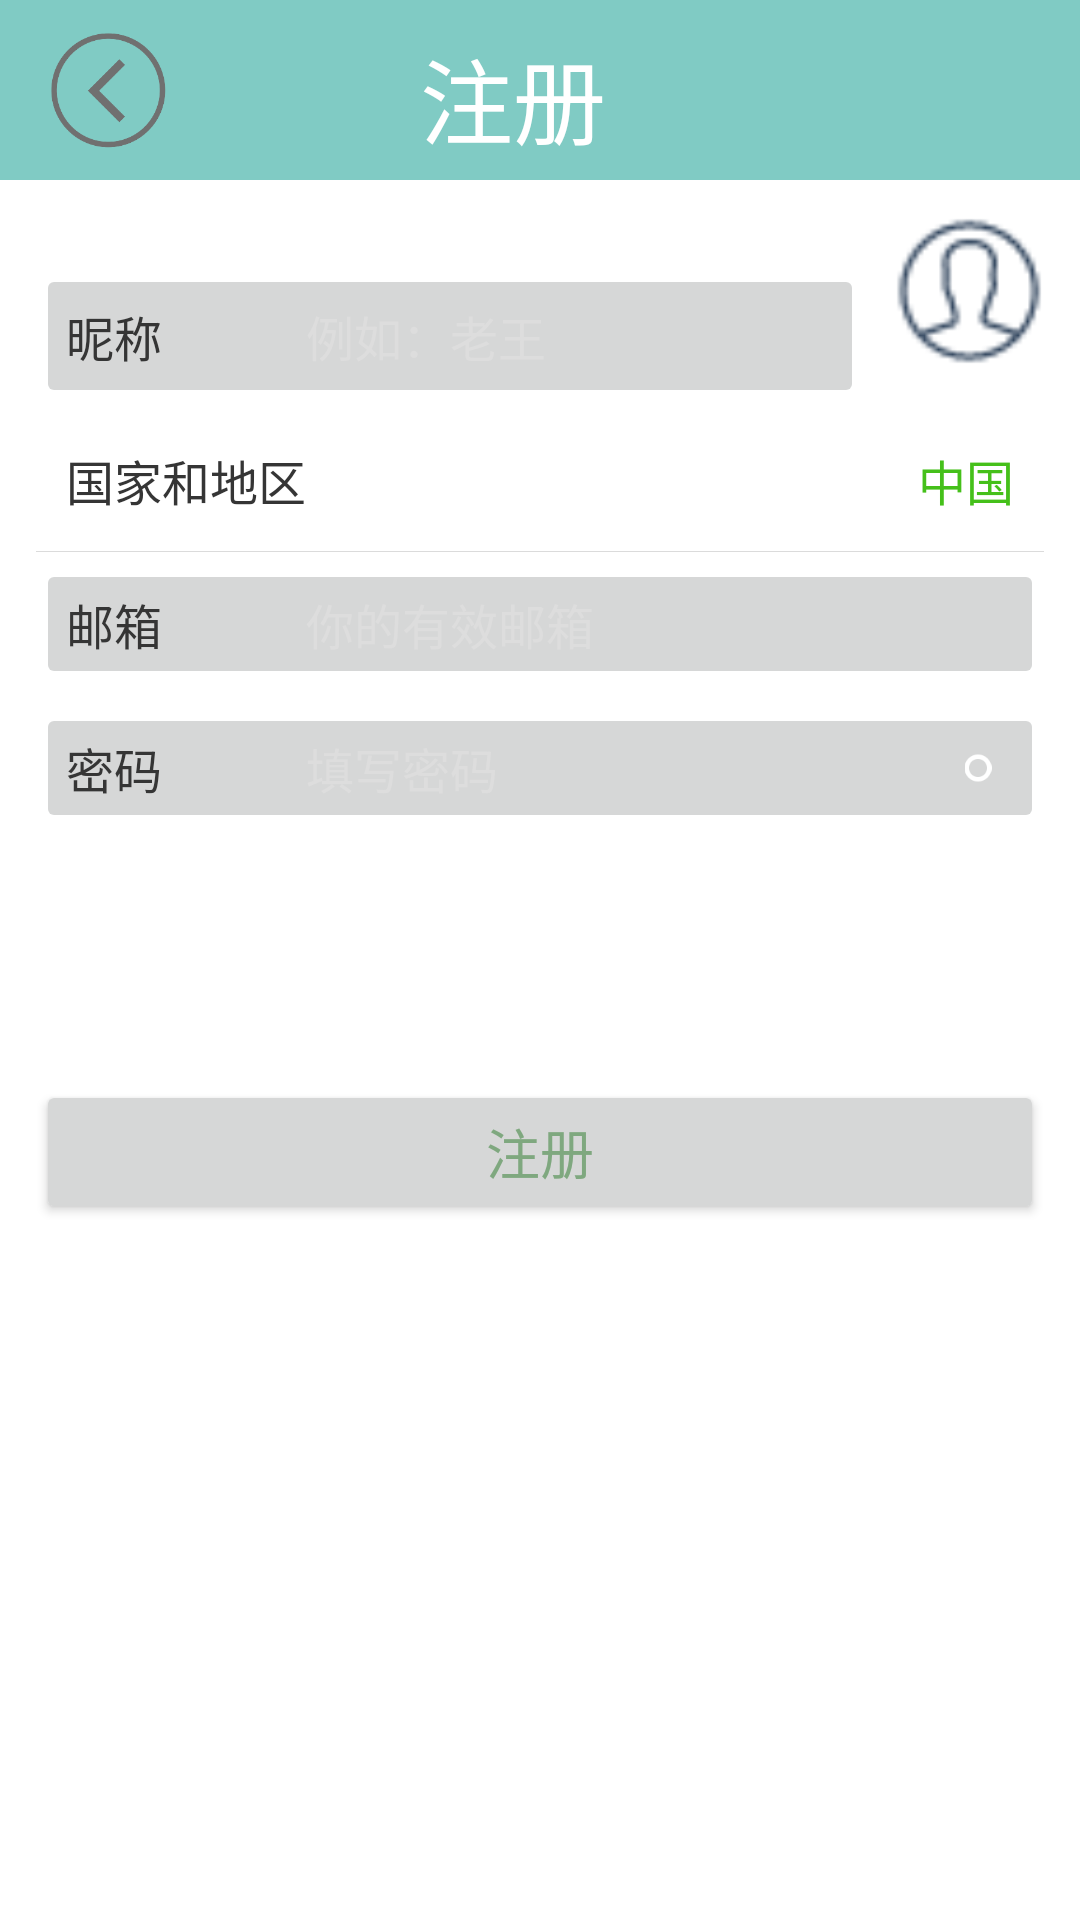

Named icons in this screenshot (1080 x 1920) and their centers, [x,y]:
return: [108,90]
user: [969,291]
